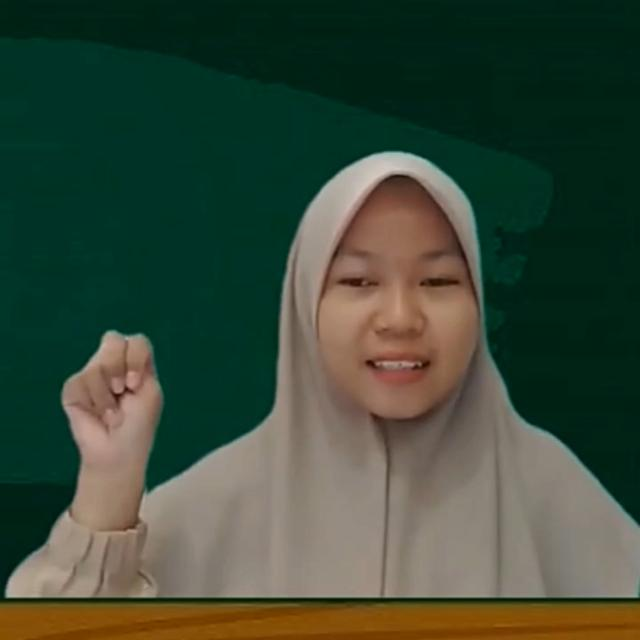N: (52, 320, 172, 476)
